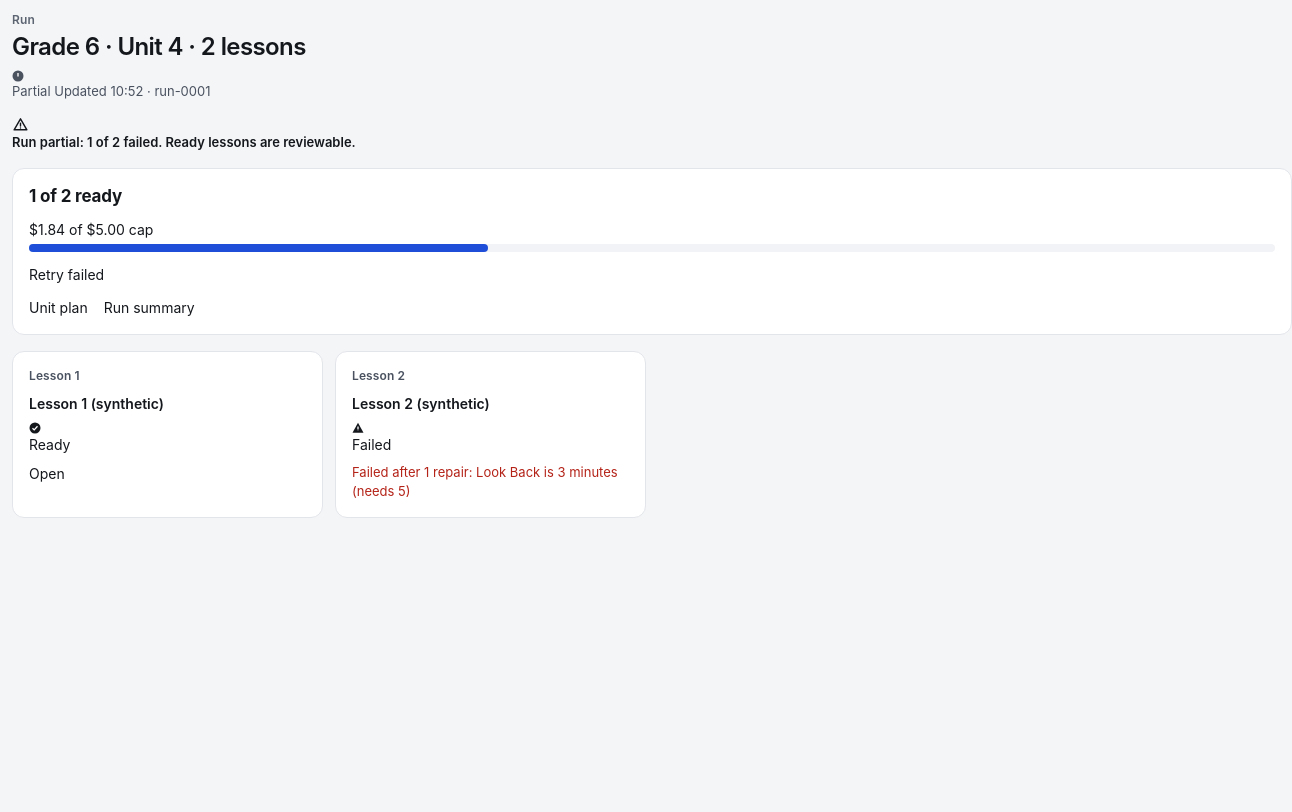
Test case: ProgressScreen › shows a failed control and keeps the tiles
The image size is (1292, 812).
Click the button "Retry failed". click: {"x": 67, "y": 275}
box: [29,264,104,285]
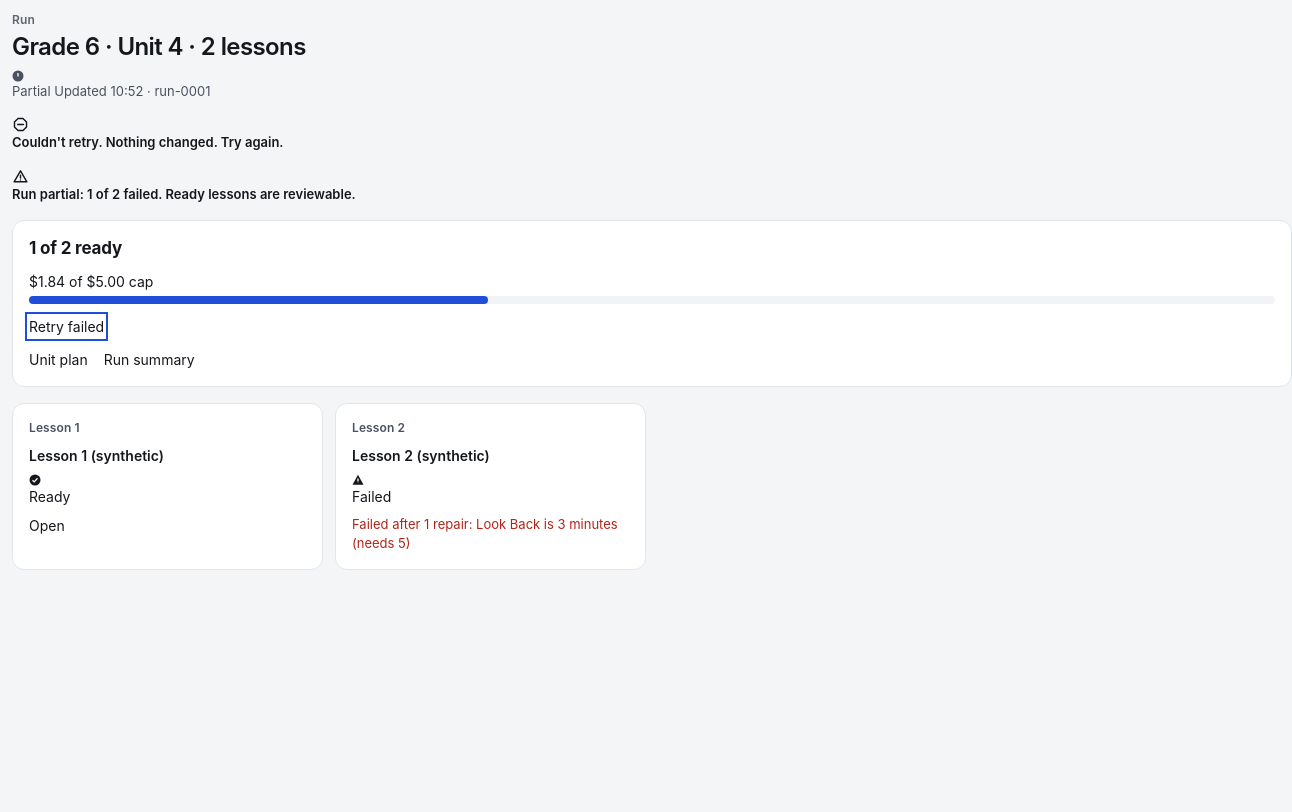
Expected: the list named "Lessons in this run" is shown, [12,403,646,570]
Result: the text "Couldn't retry. Nothing changed. Try again." is shown at [11,133,284,150]
